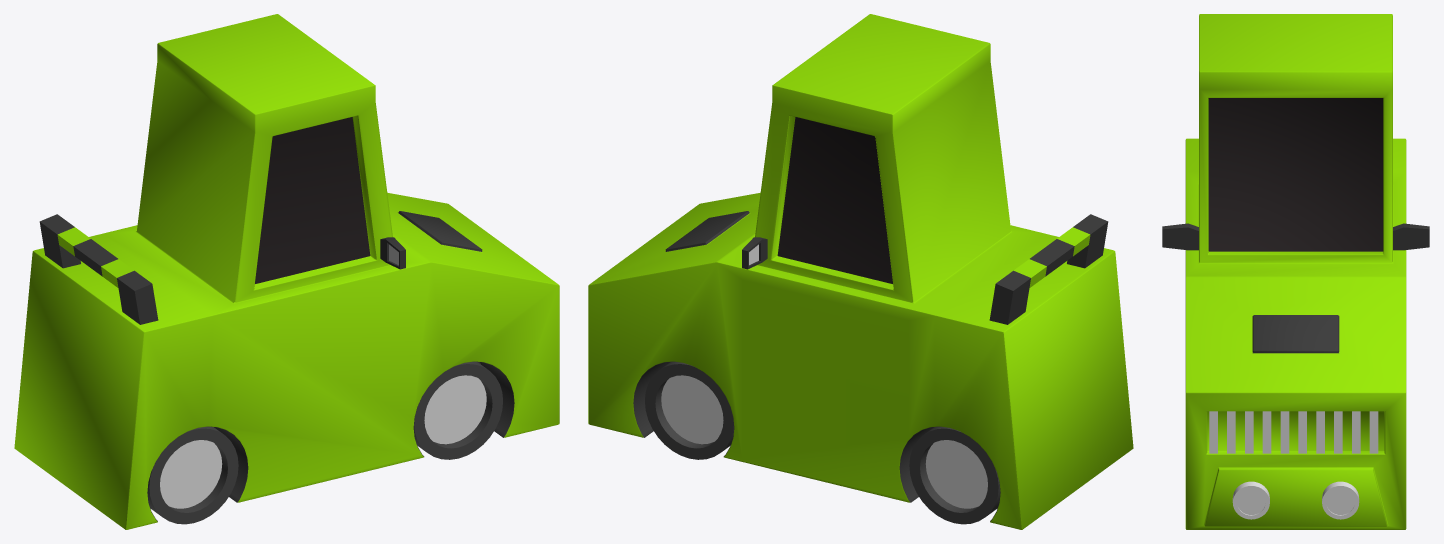
Rendered from low-poly-car.fbx.
The picture shows the model from 3 angles, left to right: view 1: azimuth 30°, elevation 25°; view 2: azimuth 150°, elevation 25°; view 3: azimuth 270°, elevation 25°; orthographic projection.
Parts seen in each view (by area): view 1: Car; view 2: Car; view 3: Car.
Part boxes in pixels (left/top/right/bottom): Car: left=14, top=14, right=559, bottom=529; Car: left=588, top=14, right=1133, bottom=529; Car: left=1162, top=14, right=1429, bottom=529.
Size of the model in its own units: 462 by 387 by 242.
